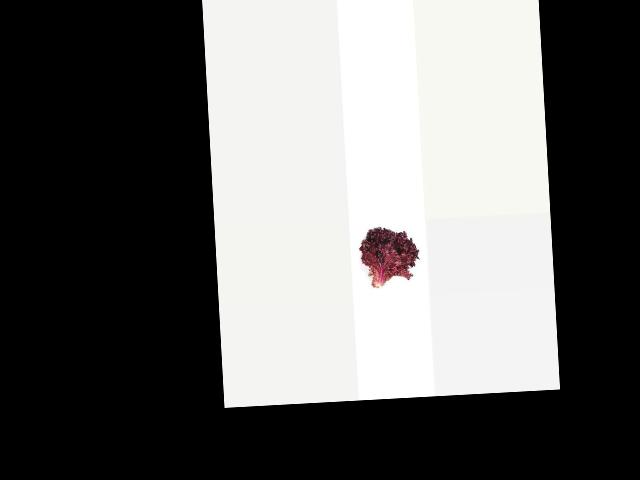lettuce: (360, 221, 422, 294)
